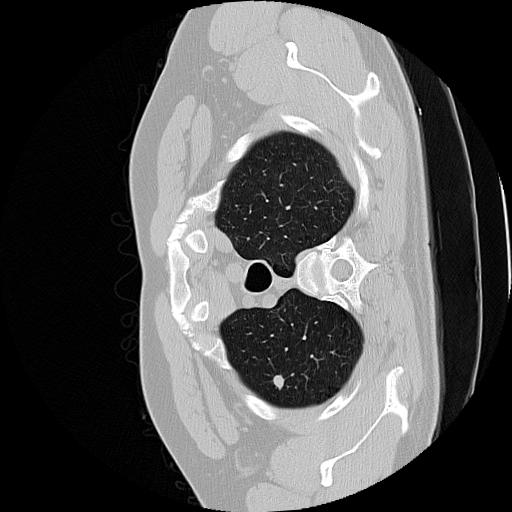nodule: (268, 371, 288, 391)
